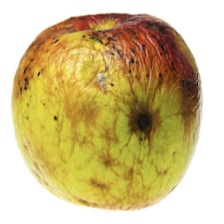apple: (6, 35, 204, 175)
